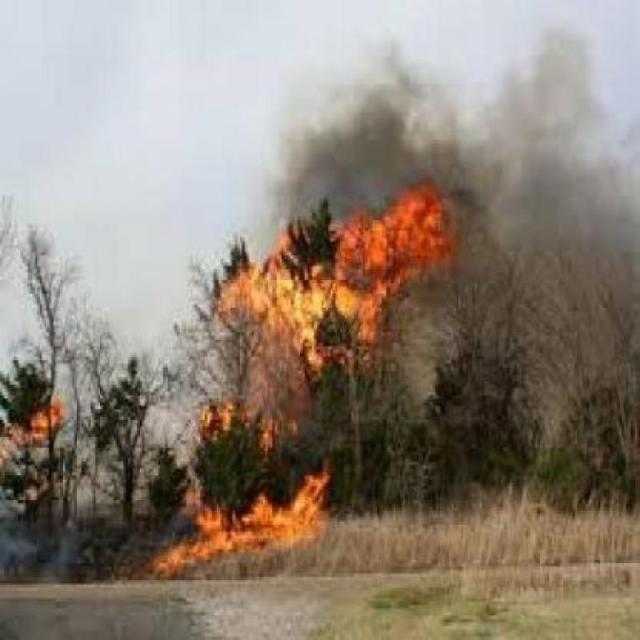Fire: (193, 214, 424, 558)
Smoke: (277, 80, 640, 206)
